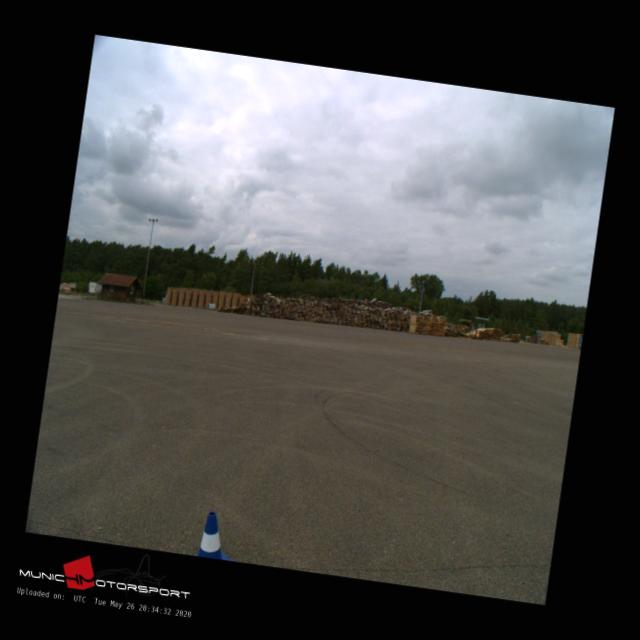blue_cone: (194, 511, 240, 562)
